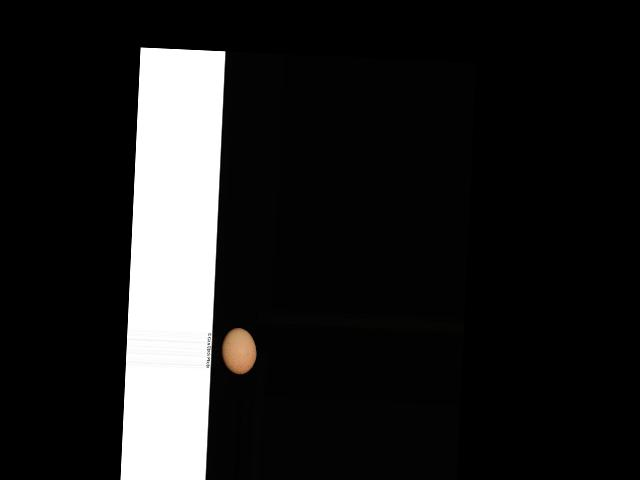egg: (219, 327, 257, 375)
